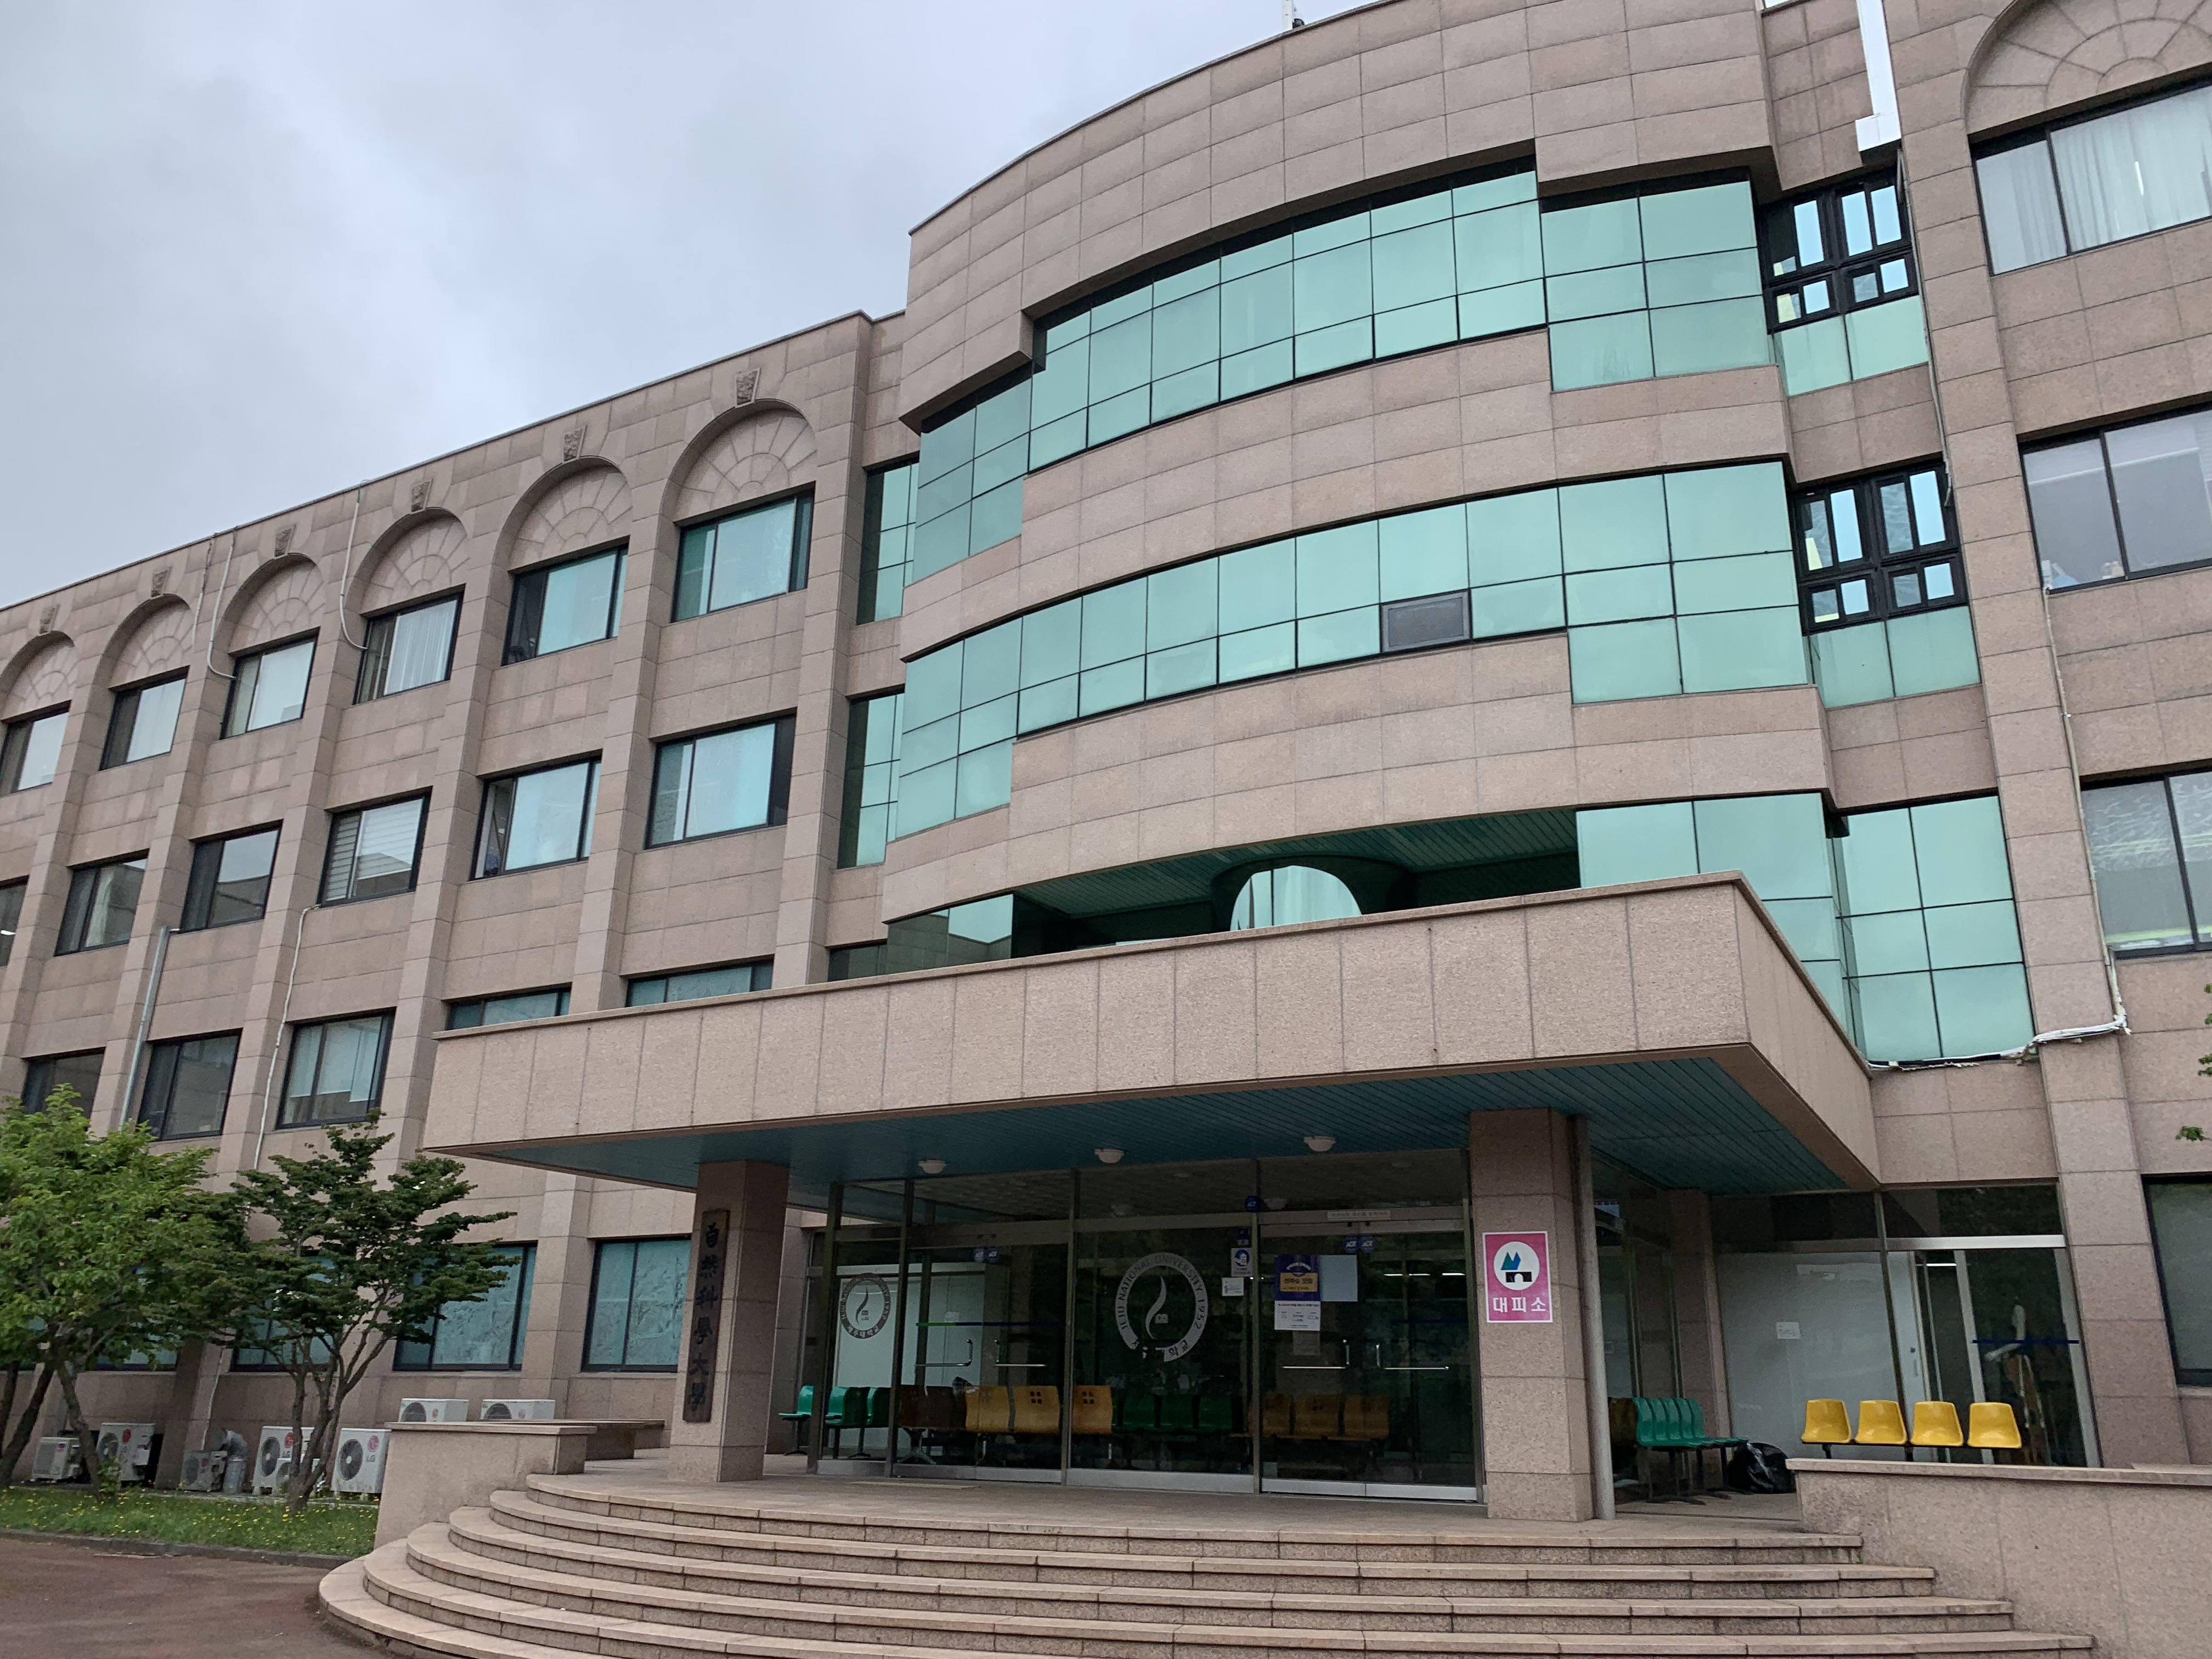Natural Science2: (63, 112, 2174, 1589)
